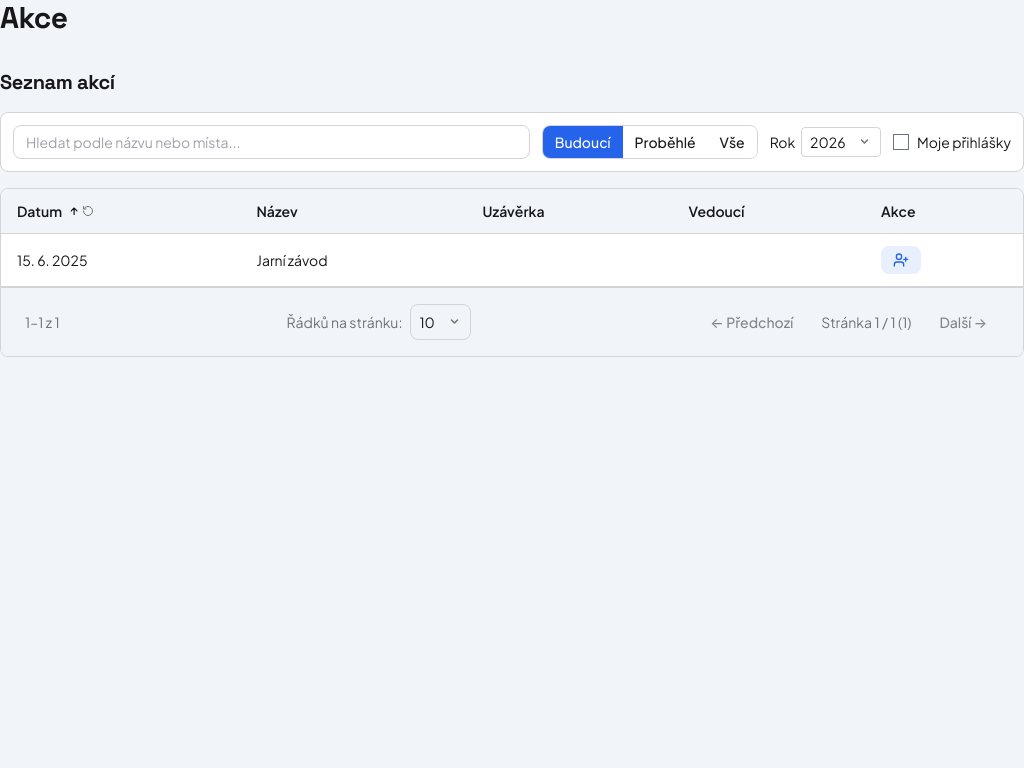
EventsPage › new-registration prefill flow › opens registration dialog prefilled with siCardNumber from member defaults when button clicked
Click the button titled "Přihlásit se" at (901, 260), box [881,246,921,274]
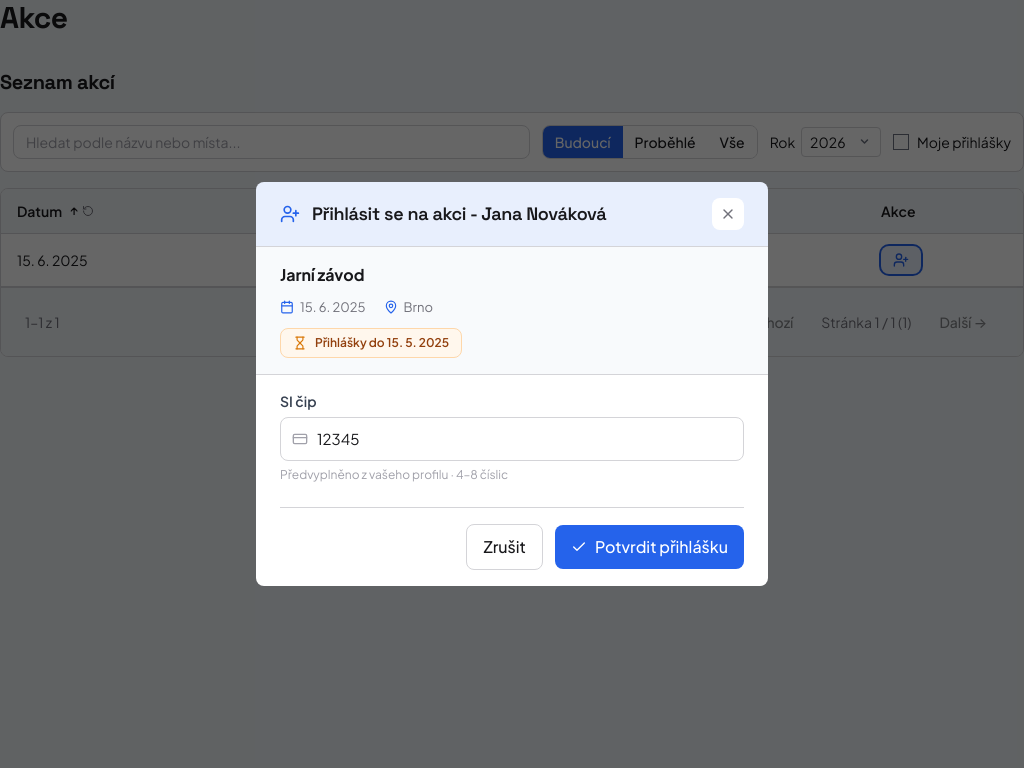
Now the field labelled "SI čip" holds "12345", box [280,417,744,461]
Now the element with test id "modal-context" shows "Jarní závod", box [280,264,364,285]
